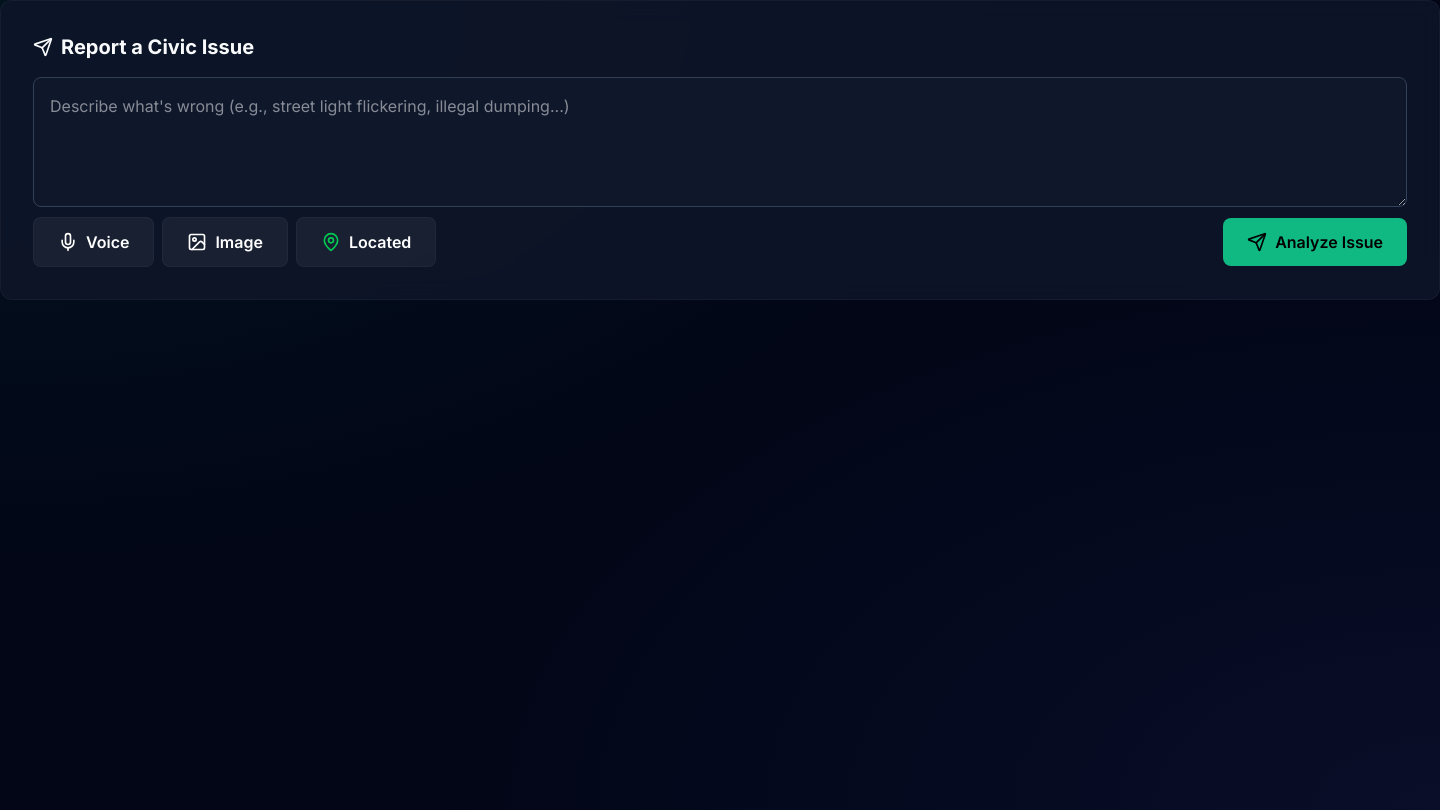
IssueInput Component › shows inline error when submitting empty description
Click the button "Analyze Issue": (1315, 242) [1223,218,1407,266]
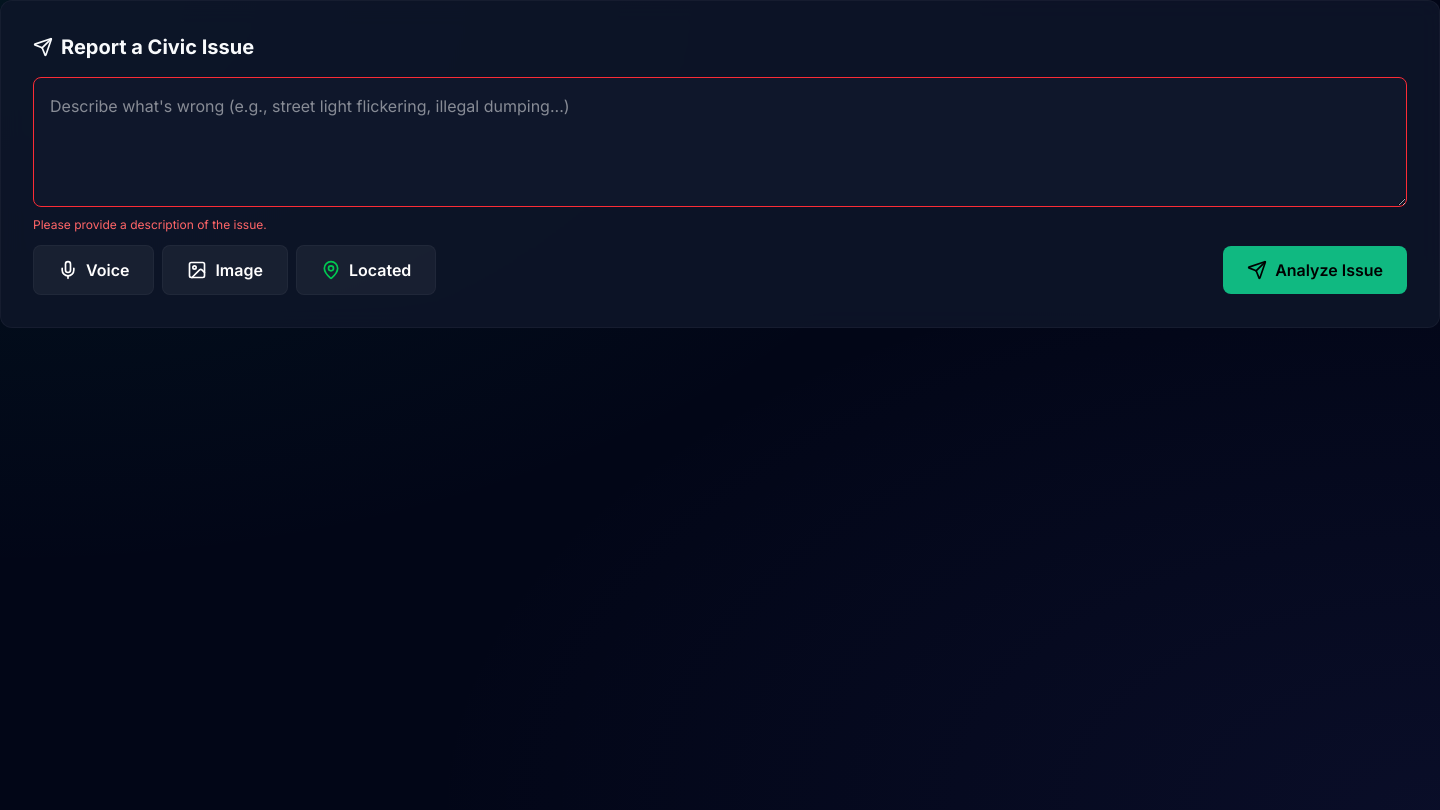
Expected: the message reads "Please provide a description of the issue.", [33,217,267,232]
